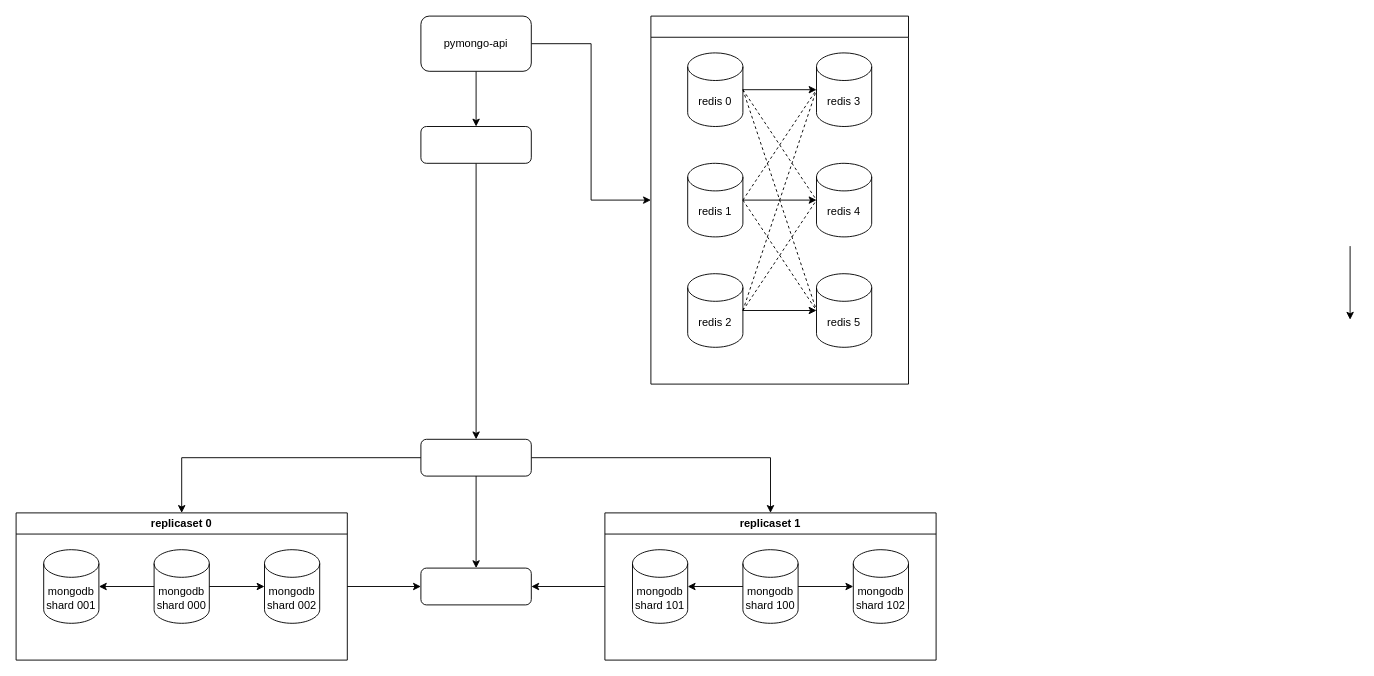
Some shapes in this 1374 by 676 pixel diagram are drawn without their labels. Here are the shapes that lost their labels. From the top down, the centre of each, then its label:
At point 475,144: "Драйвер".
At point 779,199: "Redis Cluster".
At point 475,457: "mongodb router".
At point 475,586: "mongodb config server".
